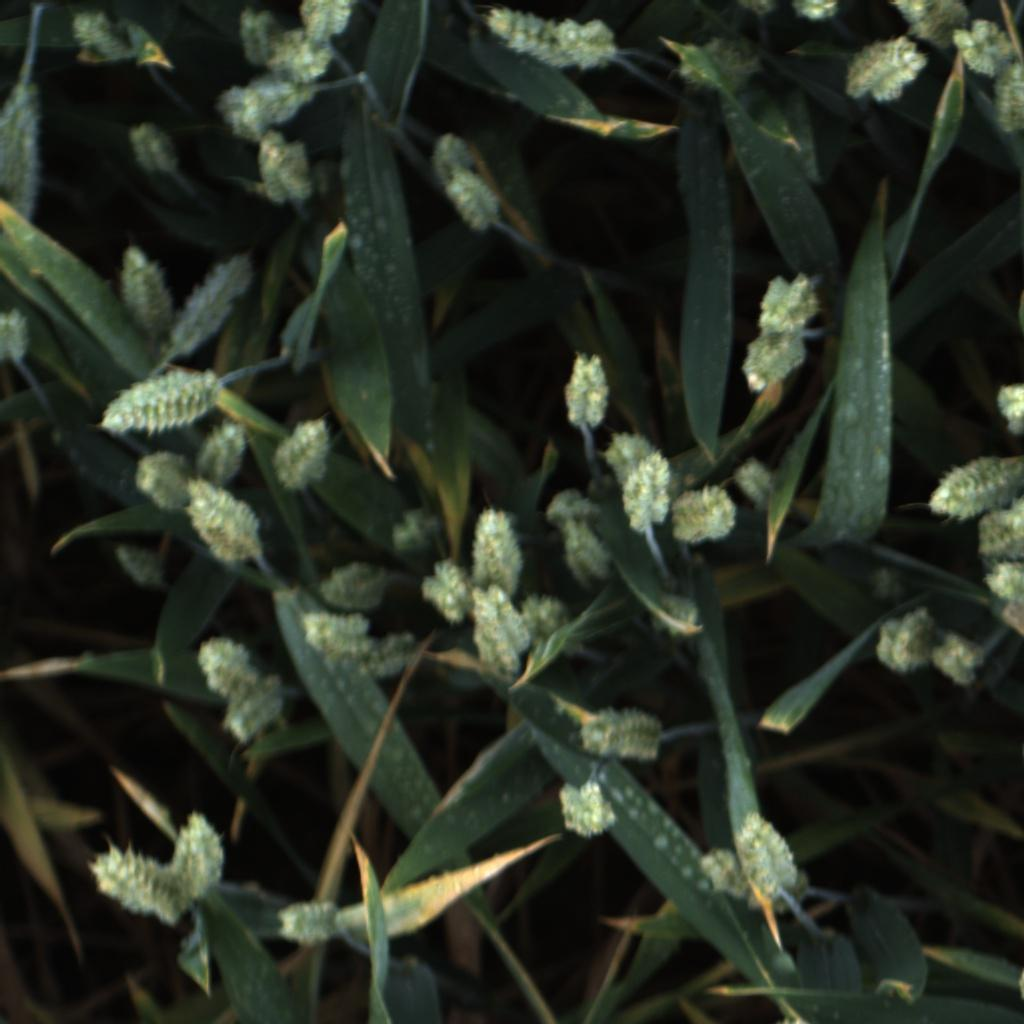0-0: (89, 839, 201, 929), (164, 249, 255, 358), (96, 366, 223, 437), (693, 845, 816, 918), (215, 69, 332, 144), (184, 476, 265, 568), (111, 232, 174, 347), (926, 453, 1024, 521), (732, 811, 802, 905), (480, 4, 579, 70), (466, 580, 534, 676), (841, 34, 929, 107), (419, 120, 498, 197), (0, 81, 43, 218), (578, 700, 667, 765), (461, 499, 525, 589), (749, 270, 829, 342), (673, 37, 763, 97), (217, 669, 286, 745), (252, 123, 316, 204), (268, 418, 338, 492), (619, 447, 675, 539), (669, 479, 742, 547), (172, 809, 226, 899), (444, 167, 508, 241), (886, 0, 973, 54), (731, 333, 805, 396), (552, 777, 622, 842), (556, 518, 617, 591), (193, 629, 255, 698), (558, 349, 611, 429), (270, 26, 339, 87), (552, 15, 623, 73), (196, 412, 254, 483), (870, 610, 933, 674), (294, 608, 370, 661), (951, 16, 1017, 77), (315, 557, 388, 611), (227, 7, 289, 70), (421, 556, 473, 629), (276, 894, 344, 949), (124, 450, 184, 511), (931, 628, 989, 689), (511, 590, 574, 645), (69, 11, 136, 62), (109, 539, 171, 594), (126, 121, 184, 179), (358, 635, 422, 686), (295, 1, 362, 47), (597, 423, 655, 475), (975, 498, 1024, 559), (385, 504, 443, 555), (647, 590, 703, 642), (539, 482, 603, 526), (728, 449, 774, 509), (990, 61, 1024, 137), (0, 305, 35, 369), (980, 559, 1024, 608), (990, 378, 1024, 439), (867, 560, 907, 601), (789, 0, 842, 24), (736, 0, 778, 18)
